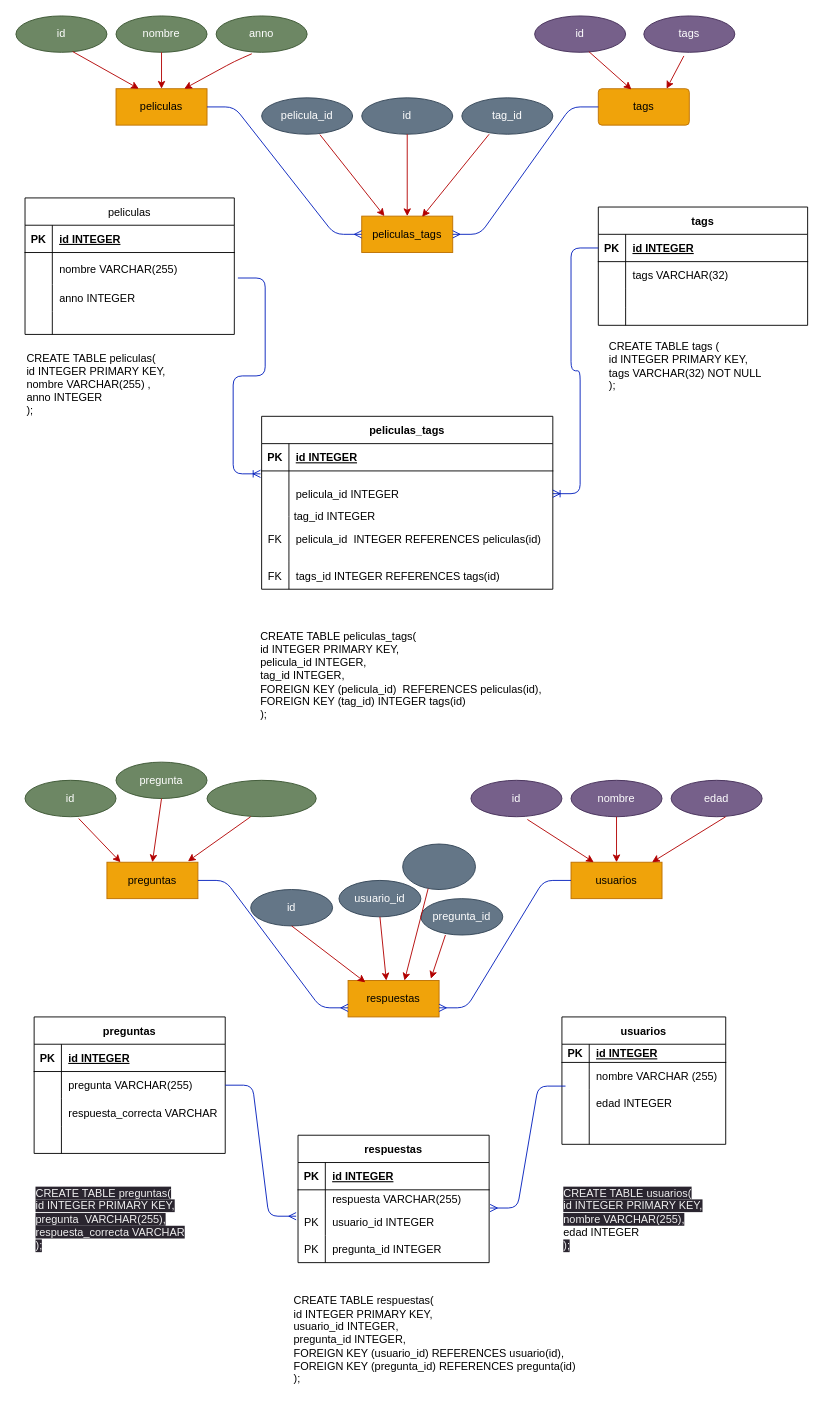
This 824x1406 diagram has some shape labels left out. Here are the shapes that lost their labels. From the top down, the centre of each, then its label:
At point 261,798: "respuesta_correcta".
At point 438,866: "respuesta".
